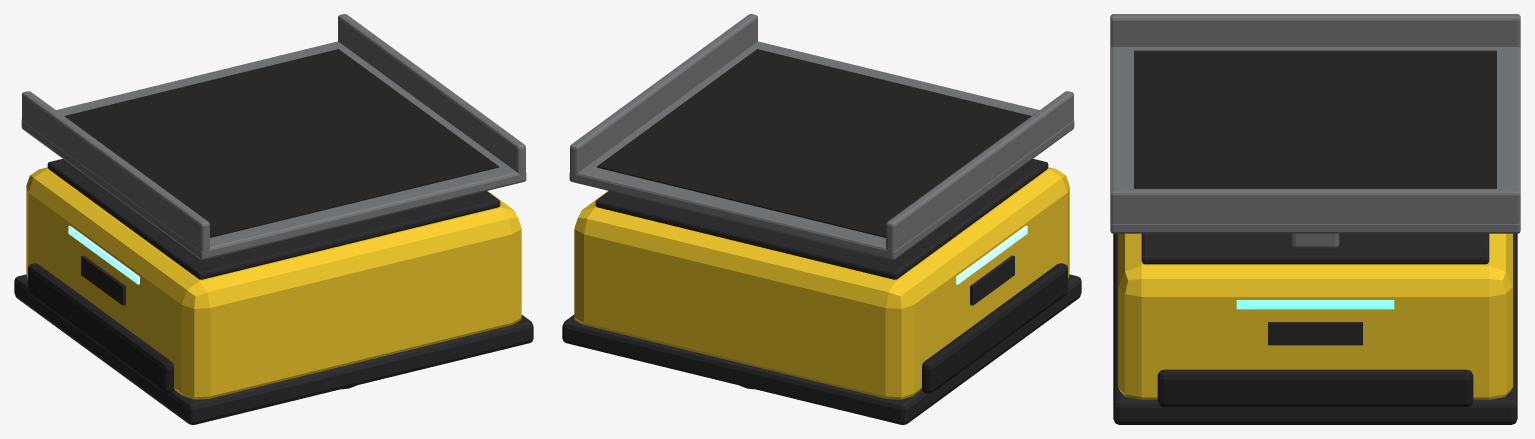
The model's file is libiao_robot.glb.
3 renders of one model, left to right at view 1: azimuth 30°, elevation 25°; view 2: azimuth 150°, elevation 25°; view 3: azimuth 270°, elevation 25°, orthographic. The views are drawn at different scales.
Visible parts, largest first — view 1: LibiaoRobot_Body, Tray, LibiaoRobot_LED; view 2: LibiaoRobot_Body, Tray, LibiaoRobot_LED; view 3: Tray, LibiaoRobot_Body, LibiaoRobot_LED, LibiaoRobot_Pivot.
Part boxes in pixels (x1=…): LibiaoRobot_Body: x1=14, y1=159, x2=533, y2=424; Tray: x1=21, y1=14, x2=526, y2=259; LibiaoRobot_LED: x1=68, y1=226, x2=139, y2=284; LibiaoRobot_Body: x1=562, y1=159, x2=1081, y2=424; Tray: x1=569, y1=14, x2=1074, y2=259; LibiaoRobot_LED: x1=956, y1=226, x2=1027, y2=284; Tray: x1=1110, y1=14, x2=1520, y2=233; LibiaoRobot_Body: x1=1113, y1=233, x2=1517, y2=424; LibiaoRobot_LED: x1=1236, y1=300, x2=1394, y2=309; LibiaoRobot_Pivot: x1=1291, y1=233, x2=1339, y2=248.
Size of the model in its own units: 0.592 by 0.341 by 0.52.
